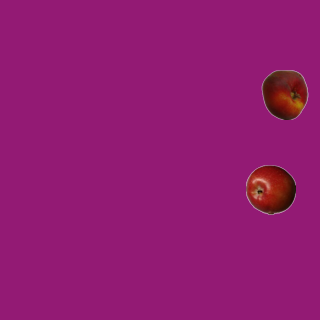Apple Braeburn: (245, 164, 295, 214)
Nectarine Flat: (259, 69, 309, 119)
